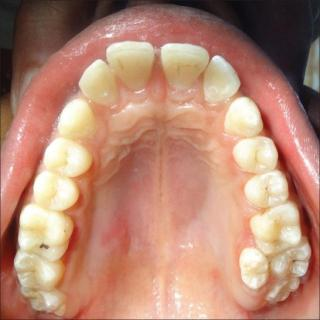UL1BC_healthy: (233, 137, 278, 174)
UL1M_healthy: (250, 202, 301, 254)
UL2BC_healthy: (245, 172, 289, 208)
UL2M_sdecay: (270, 238, 311, 278)
UL3M_healthy: (268, 279, 300, 304)
ULCI_healthy: (161, 43, 209, 88)
ULC_healthy: (224, 97, 263, 137)
ULLI_healthy: (204, 56, 241, 103)
UR1BC_healthy: (44, 139, 92, 176)
UR1M_sdecay: (17, 204, 73, 260)
UR2BC_healthy: (33, 173, 80, 210)
UR2M_healthy: (14, 254, 64, 292)
UR3M_healthy: (20, 290, 66, 316)
URCI_healthy: (105, 42, 155, 90)
URC_healthy: (57, 98, 96, 137)
URLI_healthy: (79, 60, 118, 105)
